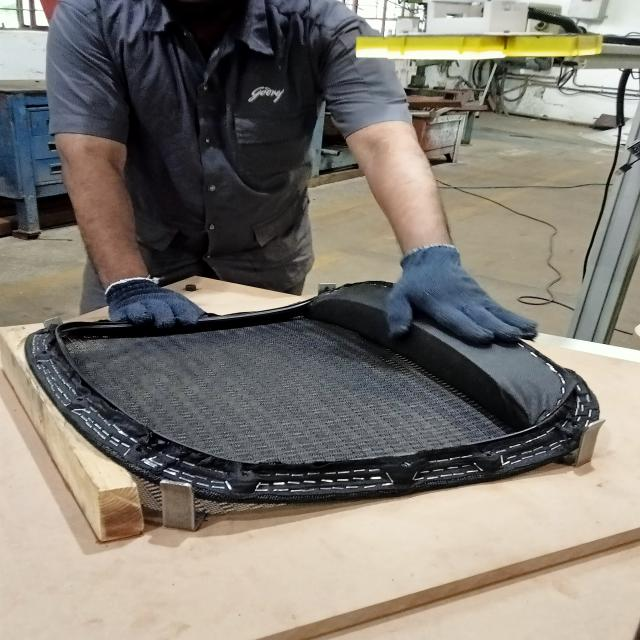Gloves-Detection: (376, 243, 538, 346), (87, 275, 205, 325)
